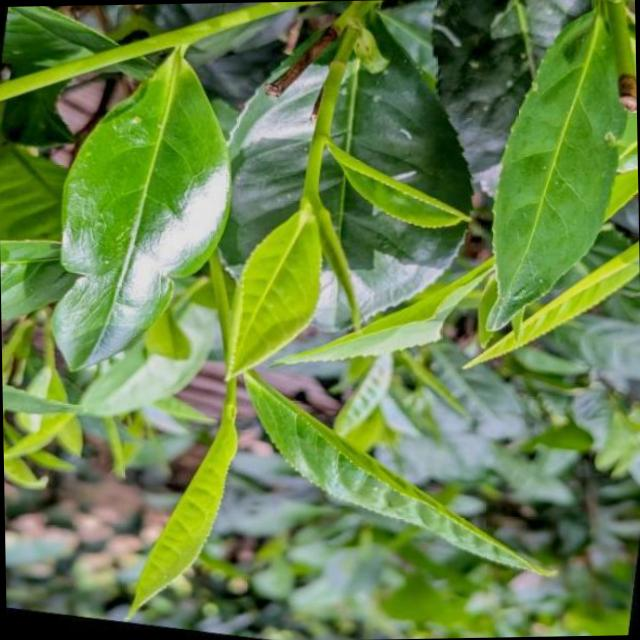Stem: (299, 138, 324, 195)
